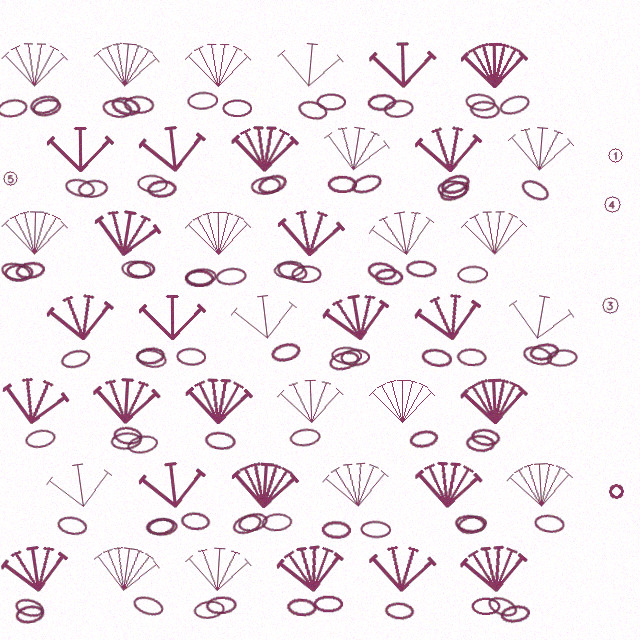chain: (518, 176, 552, 205), (437, 177, 472, 205), (485, 593, 520, 621), (497, 92, 532, 118), (349, 171, 384, 197), (255, 171, 289, 197), (438, 171, 472, 197), (230, 511, 264, 537), (131, 593, 165, 619), (327, 348, 361, 373), (521, 343, 554, 368), (63, 176, 97, 200), (275, 259, 309, 283), (236, 510, 270, 534), (109, 94, 142, 118), (296, 98, 329, 122), (0, 260, 33, 284), (59, 347, 92, 371), (269, 340, 302, 364), (13, 596, 46, 620), (28, 93, 61, 116), (135, 347, 168, 370), (420, 346, 453, 369), (24, 427, 57, 450), (126, 433, 159, 456), (31, 96, 63, 119), (101, 97, 133, 120), (56, 514, 88, 537), (456, 513, 488, 536), (366, 260, 398, 282), (528, 341, 560, 363), (408, 428, 440, 450), (14, 603, 46, 625), (499, 603, 531, 625), (464, 92, 497, 113), (120, 259, 153, 280), (533, 513, 566, 534), (77, 178, 109, 199), (250, 175, 282, 196), (14, 260, 46, 281), (215, 266, 247, 287), (273, 259, 305, 280), (112, 425, 144, 446), (204, 430, 236, 451), (289, 427, 321, 448), (454, 513, 486, 534), (193, 599, 225, 620), (383, 98, 414, 119), (470, 427, 501, 448), (145, 516, 176, 537), (185, 267, 217, 287), (405, 259, 437, 279), (546, 348, 578, 368), (110, 431, 142, 451), (261, 512, 293, 532), (205, 595, 237, 615), (0, 97, 29, 119), (135, 346, 166, 366), (456, 347, 487, 367), (147, 517, 178, 537), (180, 511, 211, 531), (286, 597, 317, 617), (384, 601, 415, 621), (123, 95, 155, 114), (469, 100, 501, 119), (187, 91, 218, 110), (146, 179, 177, 198), (137, 174, 168, 193), (457, 265, 488, 284), (331, 346, 362, 365), (465, 434, 496, 453), (360, 520, 391, 539), (367, 93, 397, 112), (4, 263, 34, 282), (176, 347, 206, 366), (340, 348, 370, 367), (321, 520, 351, 539), (437, 180, 468, 198), (291, 265, 322, 283), (222, 99, 252, 117), (316, 93, 346, 111), (327, 175, 357, 193), (126, 260, 156, 278), (184, 269, 214, 287), (374, 268, 404, 286), (313, 595, 343, 613), (471, 597, 501, 615)
fan: (90, 203, 164, 263), (366, 203, 440, 263), (320, 287, 394, 347), (412, 287, 486, 347), (504, 287, 578, 347), (0, 371, 72, 431), (320, 119, 393, 178), (0, 539, 72, 598), (44, 456, 117, 514), (90, 540, 163, 598), (137, 120, 209, 177), (229, 288, 301, 345), (137, 456, 209, 513), (275, 540, 347, 597), (45, 289, 117, 345), (91, 37, 162, 92), (275, 37, 346, 92), (321, 457, 392, 512), (459, 541, 530, 596), (506, 121, 576, 176), (414, 122, 484, 176), (276, 206, 346, 260), (230, 458, 300, 512), (184, 542, 253, 596), (92, 374, 161, 427), (414, 458, 483, 511), (506, 458, 575, 511), (368, 542, 437, 595), (460, 375, 529, 427), (185, 375, 253, 427), (277, 375, 345, 427), (1, 39, 69, 90), (369, 39, 437, 90), (231, 123, 299, 174), (1, 207, 69, 258), (461, 207, 528, 258), (185, 40, 252, 90), (461, 40, 528, 90), (47, 124, 114, 174), (185, 208, 252, 258), (139, 292, 206, 342), (369, 376, 436, 426)
noise: (600, 295, 620, 315), (602, 194, 622, 214), (606, 146, 625, 165), (607, 482, 626, 501), (1, 169, 20, 188)
